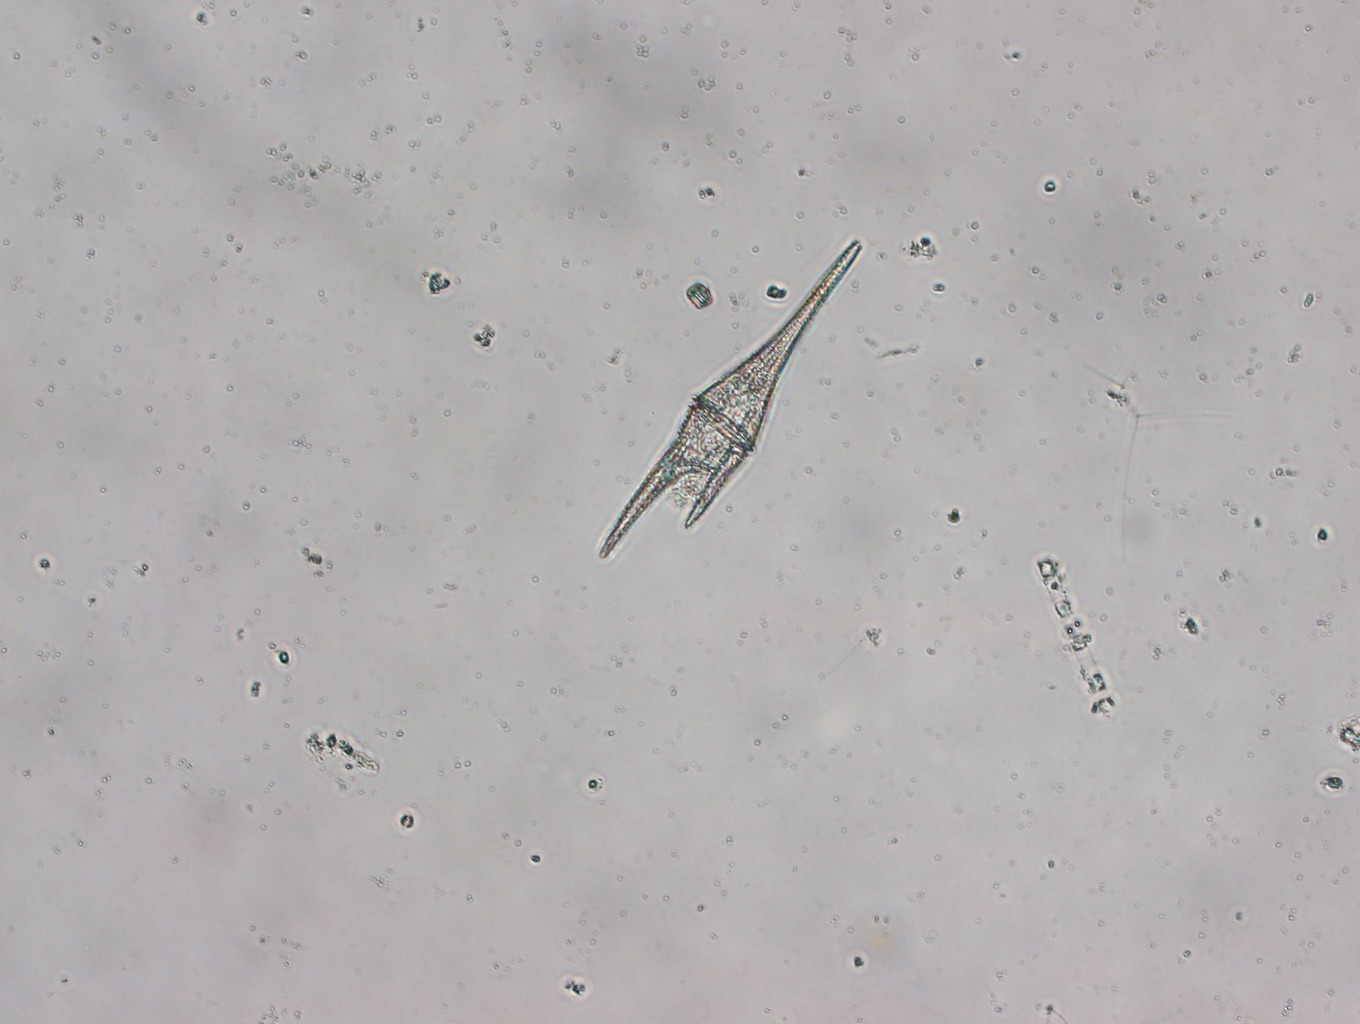ceratium furca: (598, 239, 860, 558)
skeletonema: (1036, 555, 1115, 720)
